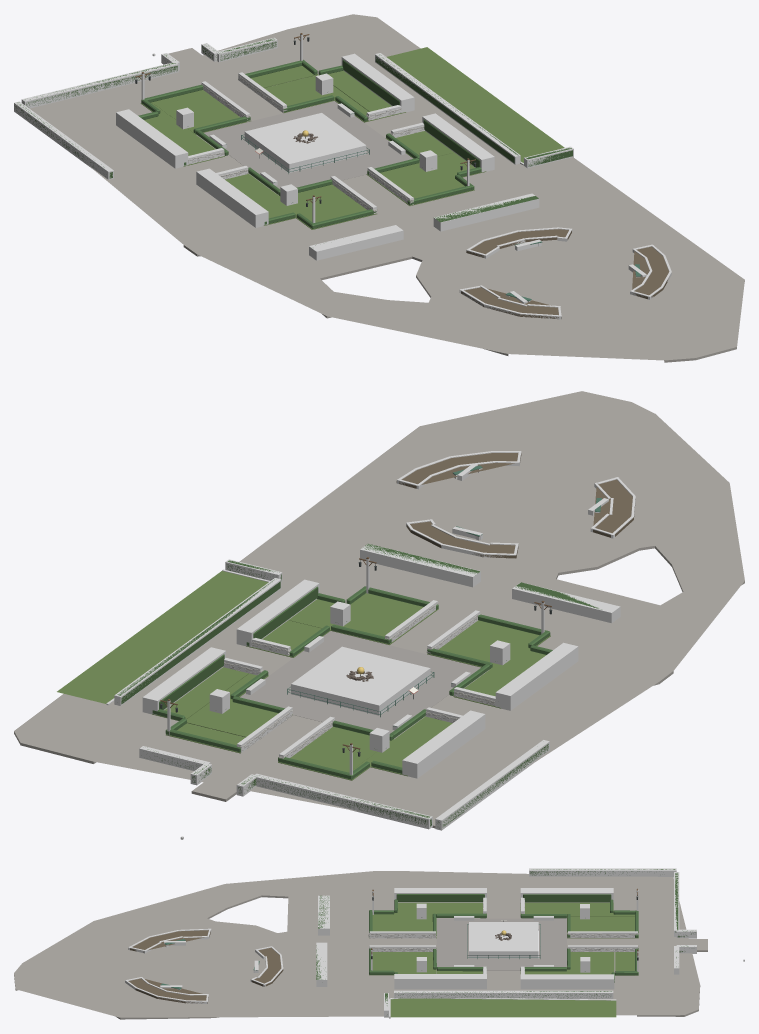
File: AR_Herautenplein.fbx
3 views of the same model, one above another, from view 1: azimuth 30°, elevation 25°; view 2: azimuth 150°, elevation 25°; view 3: azimuth 270°, elevation 25° (orthographic). The views are drawn at different scales.
Visible parts, largest first — view 1: static__MAT_kassei_0, static__MAT_gras_0, static__MAT_plavuis_0, static__MAT_taxus_0, static__MAT_haag_0, COLL_36, static__MAT_bodem_0, static__TEX_baksteen_bakken_0, COLL_0, COLL_12, COLL_16, COLL_7 (+6 smaller); view 2: static__MAT_kassei_0, static__MAT_gras_0, static__MAT_plavuis_0, static__MAT_taxus_0, static__MAT_haag_0, COLL_36, static__MAT_bodem_0, static__TEX_baksteen_bakken_0, COLL_0, COLL_12, COLL_16, COLL_8 (+6 smaller); view 3: static__MAT_kassei_0, static__MAT_gras_0, static__MAT_plavuis_0, static__MAT_taxus_0, COLL_36, static__MAT_bodem_0, static__MAT_haag_0, COLL_5, static__TEX_baksteen_bakken_0, COLL_14, COLL_18, COLL_4 (+9 smaller).
Part boxes in pixels (x1,y1,x2,y2): static__MAT_kassei_0: (30, 14, 744, 362); static__MAT_gras_0: (140, 47, 564, 229); static__MAT_plavuis_0: (204, 101, 412, 189); static__MAT_taxus_0: (14, 38, 572, 245); static__MAT_haag_0: (138, 59, 481, 228); COLL_36: (244, 113, 366, 172); static__MAT_bodem_0: (461, 229, 668, 318); static__TEX_baksteen_bakken_0: (459, 161, 671, 319); COLL_0: (21, 62, 178, 108); COLL_12: (116, 109, 188, 168); COLL_16: (196, 168, 268, 227); COLL_7: (309, 225, 403, 260); static__MAT_kassei_0: (14, 391, 744, 828); static__MAT_gras_0: (57, 571, 550, 780); static__MAT_plavuis_0: (240, 631, 480, 733); static__MAT_taxus_0: (117, 543, 601, 828); static__MAT_haag_0: (152, 586, 552, 779); COLL_36: (291, 646, 430, 715); static__MAT_bodem_0: (396, 453, 635, 558); static__TEX_baksteen_bakken_0: (106, 451, 635, 709); COLL_0: (253, 773, 432, 829); COLL_12: (402, 710, 485, 778); COLL_16: (495, 642, 578, 710); COLL_8: (360, 544, 480, 587); static__MAT_kassei_0: (14, 871, 707, 1019); static__MAT_gras_0: (369, 902, 638, 1017); static__MAT_plavuis_0: (436, 918, 566, 970); static__MAT_taxus_0: (316, 869, 695, 1014); COLL_36: (469, 922, 538, 958); static__MAT_bodem_0: (128, 930, 283, 1003); static__MAT_haag_0: (369, 899, 638, 982); COLL_5: (394, 990, 613, 998); static__TEX_baksteen_bakken_0: (125, 928, 616, 1018); COLL_14: (520, 974, 614, 989); COLL_18: (394, 974, 486, 989); COLL_4: (529, 868, 676, 877).
Size of the model in its own units: 41.23 by 5.4 by 86.66.
